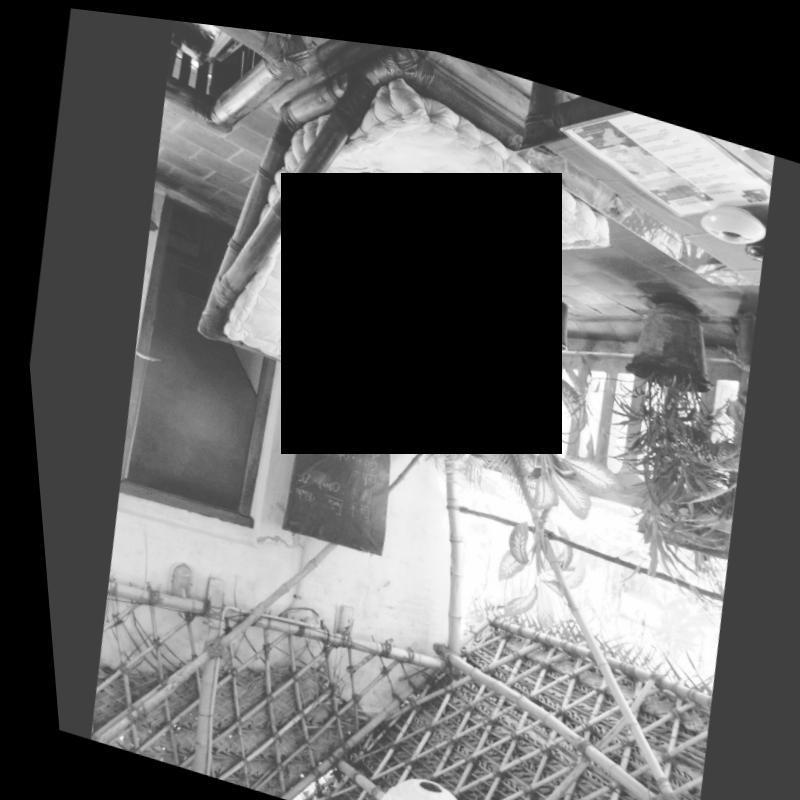pillow: (291, 153, 478, 330)
